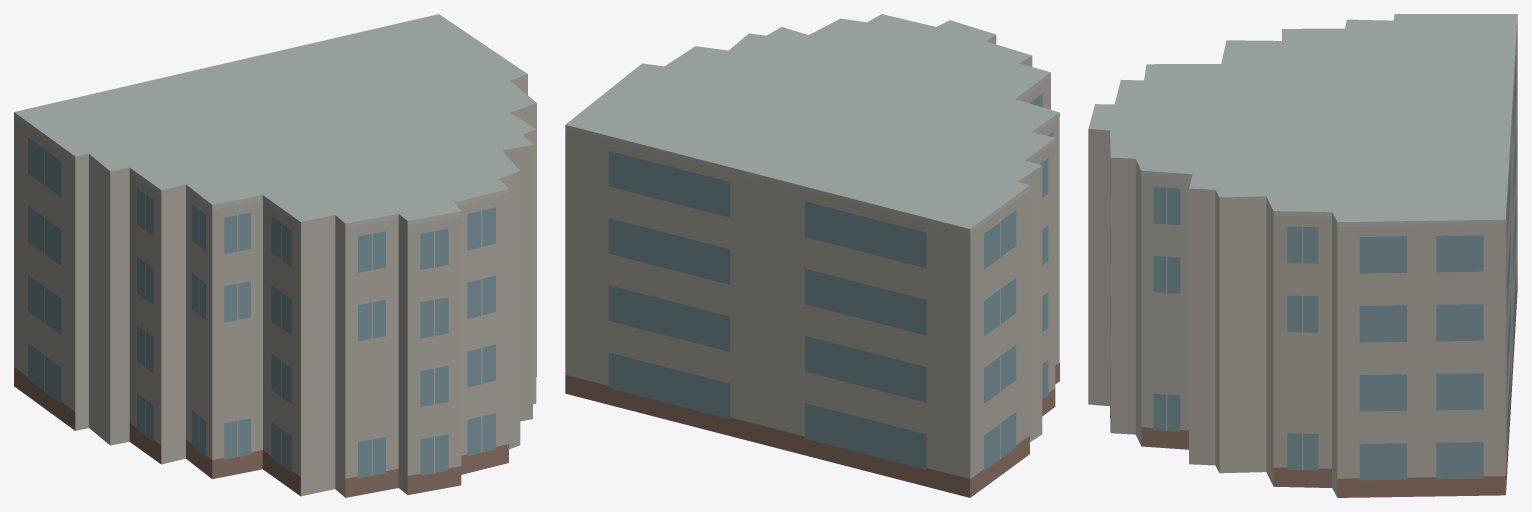
Rendered from survey-upis-32497922.glb.
3 views of the same model, side by side, from view 1: azimuth 30°, elevation 25°; view 2: azimuth 150°, elevation 25°; view 3: azimuth 270°, elevation 25° (orthographic). The views are drawn at different scales.
Visible parts, largest first — view 1: survey-upis-32497922.tmp; view 2: survey-upis-32497922.tmp; view 3: survey-upis-32497922.tmp.
Boxes of the visible parts, x1,y1,x2,y2 form: survey-upis-32497922.tmp: (14,14,536,497); survey-upis-32497922.tmp: (565,14,1059,497); survey-upis-32497922.tmp: (1088,14,1517,497).
Bounding box in the file's own units: 22.51 × 13.9 × 19.61.
